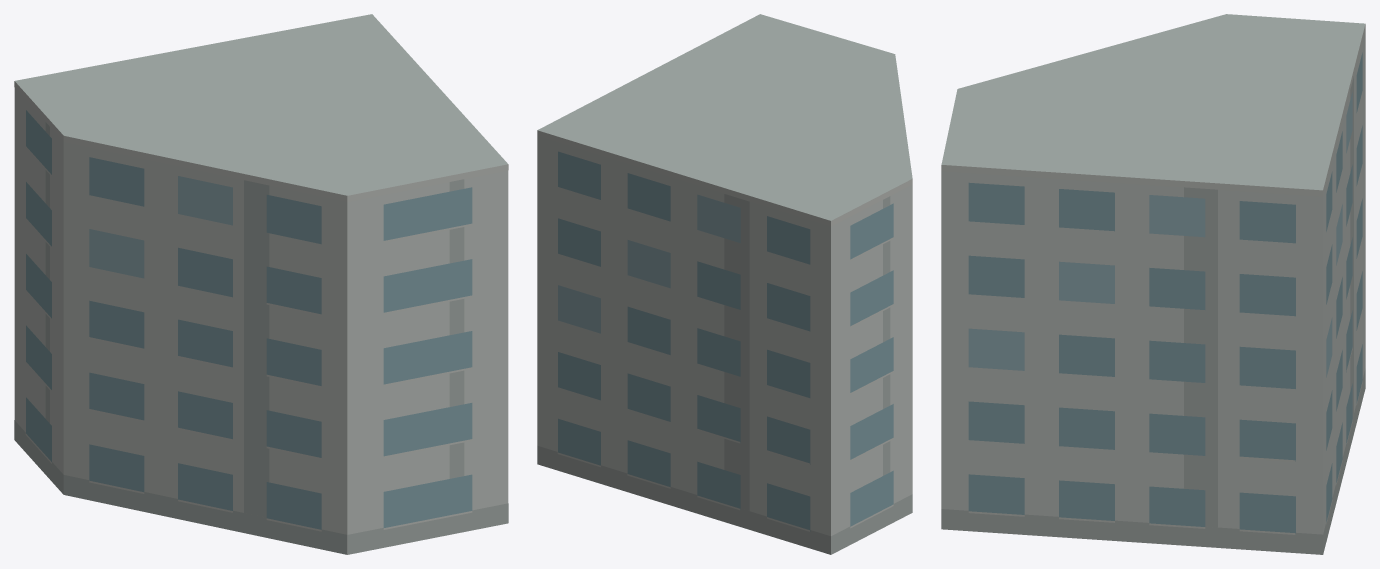
Rendered from residential-9190cd6b-28d2-4605-8479-b3477d292917.glb.
The picture shows the model from 3 angles, left to right: view 1: azimuth 30°, elevation 25°; view 2: azimuth 150°, elevation 25°; view 3: azimuth 270°, elevation 25°; orthographic projection. The views are drawn at different scales.
Parts seen in each view (by area): view 1: residential-9190cd6b-28d2-4605-8479-b3477d292917.tmp; view 2: residential-9190cd6b-28d2-4605-8479-b3477d292917.tmp; view 3: residential-9190cd6b-28d2-4605-8479-b3477d292917.tmp.
Part boxes in pixels (x1,y1,x2,y2): residential-9190cd6b-28d2-4605-8479-b3477d292917.tmp: (14, 14, 508, 554); residential-9190cd6b-28d2-4605-8479-b3477d292917.tmp: (537, 14, 912, 554); residential-9190cd6b-28d2-4605-8479-b3477d292917.tmp: (941, 14, 1365, 554).
Bounding box in the file's own units: 14.54 × 14 × 14.77.
